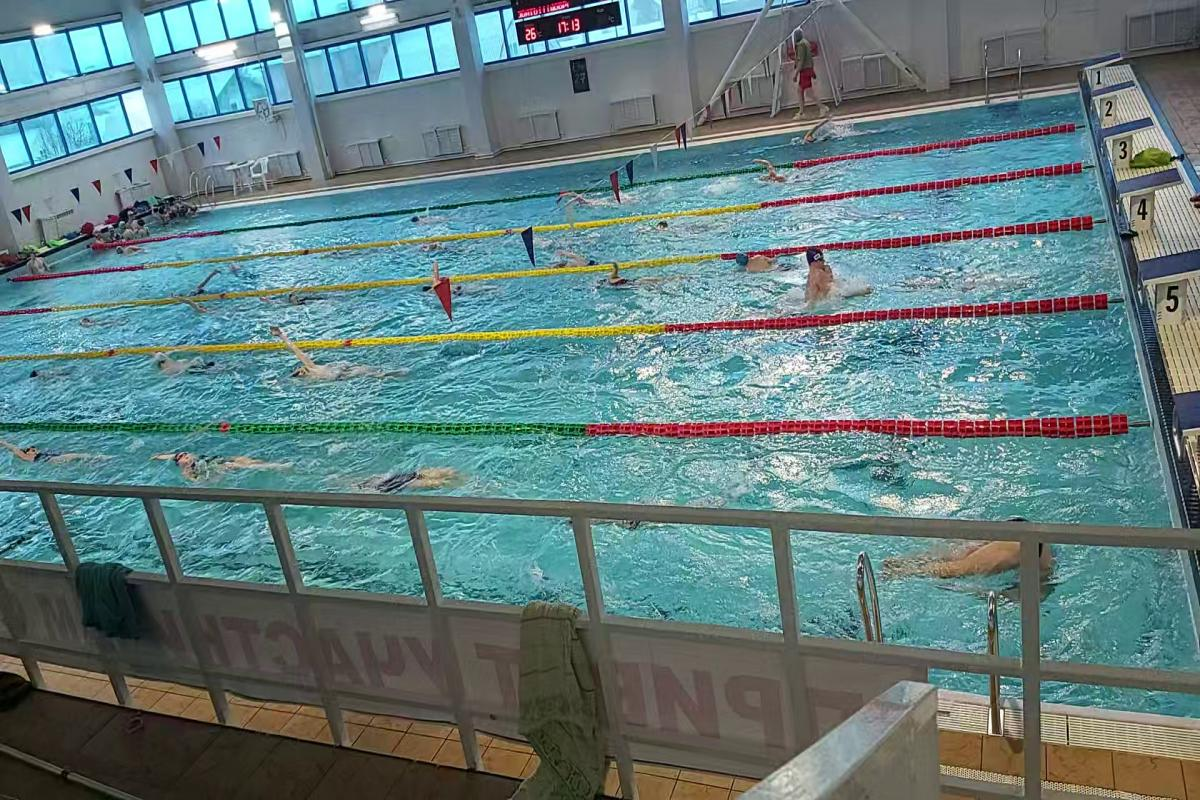swimmer: (889, 509, 1058, 602), (276, 323, 391, 390), (159, 437, 295, 483), (347, 454, 479, 494), (1, 437, 110, 474), (144, 344, 239, 379), (805, 236, 849, 310), (724, 247, 792, 283), (598, 267, 686, 290), (279, 288, 338, 315), (540, 242, 592, 265), (178, 276, 231, 296), (395, 209, 449, 227)
